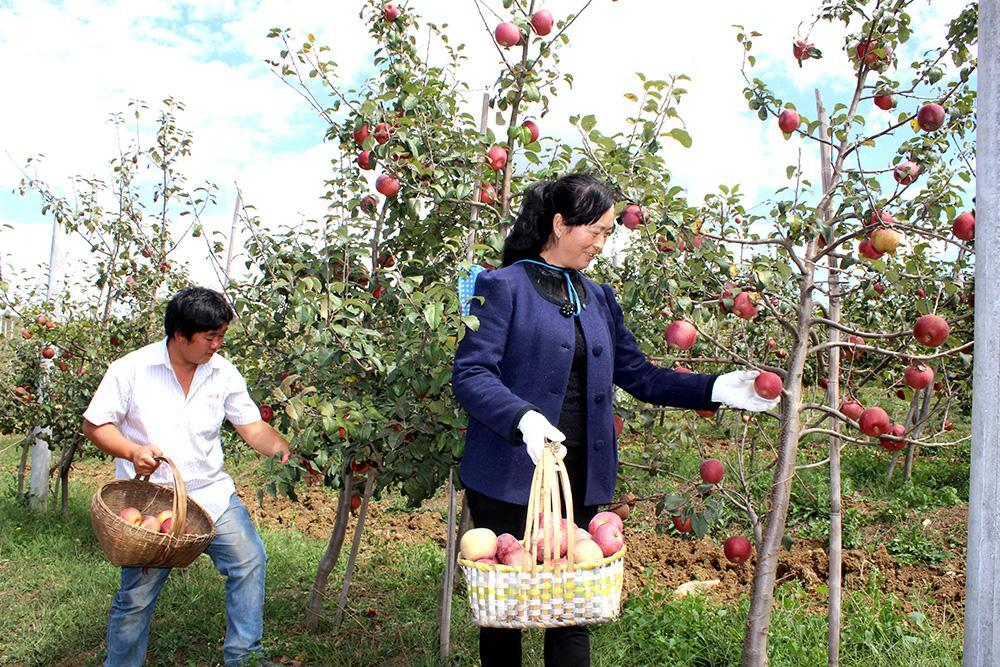apple: (913, 314, 950, 347), (461, 527, 498, 560), (493, 532, 524, 566), (860, 405, 891, 437), (594, 522, 624, 554), (568, 538, 603, 565), (665, 320, 698, 348), (916, 102, 944, 132), (590, 512, 623, 536), (731, 290, 760, 317), (754, 372, 783, 398), (621, 203, 650, 229), (905, 363, 934, 389), (724, 535, 751, 561), (871, 228, 900, 252), (951, 211, 975, 239), (699, 458, 724, 482), (838, 398, 864, 421), (532, 8, 554, 35), (674, 506, 697, 530), (487, 146, 510, 170), (376, 173, 399, 197), (496, 22, 519, 46), (895, 164, 920, 185)
